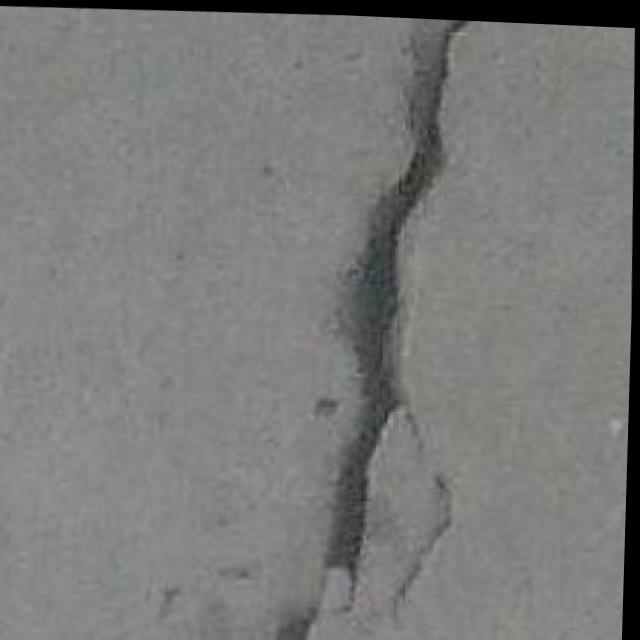Crack: (273, 10, 502, 640)
